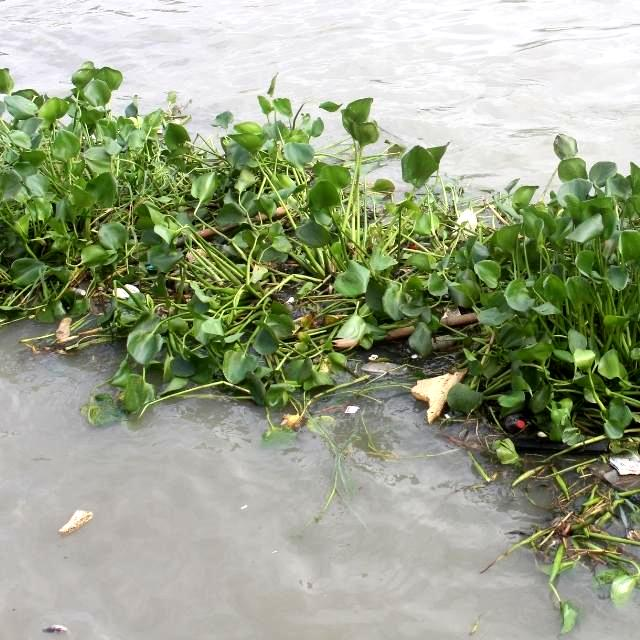water-hyacinth: (6, 41, 640, 541)
